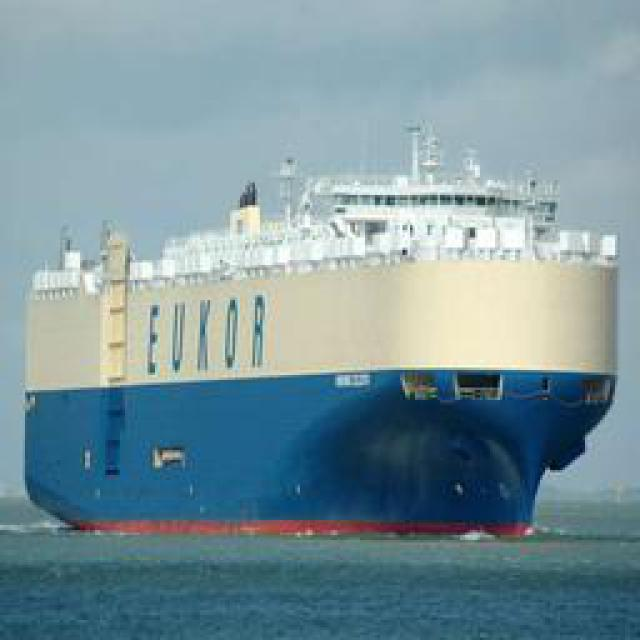Ship: (27, 116, 625, 544)
